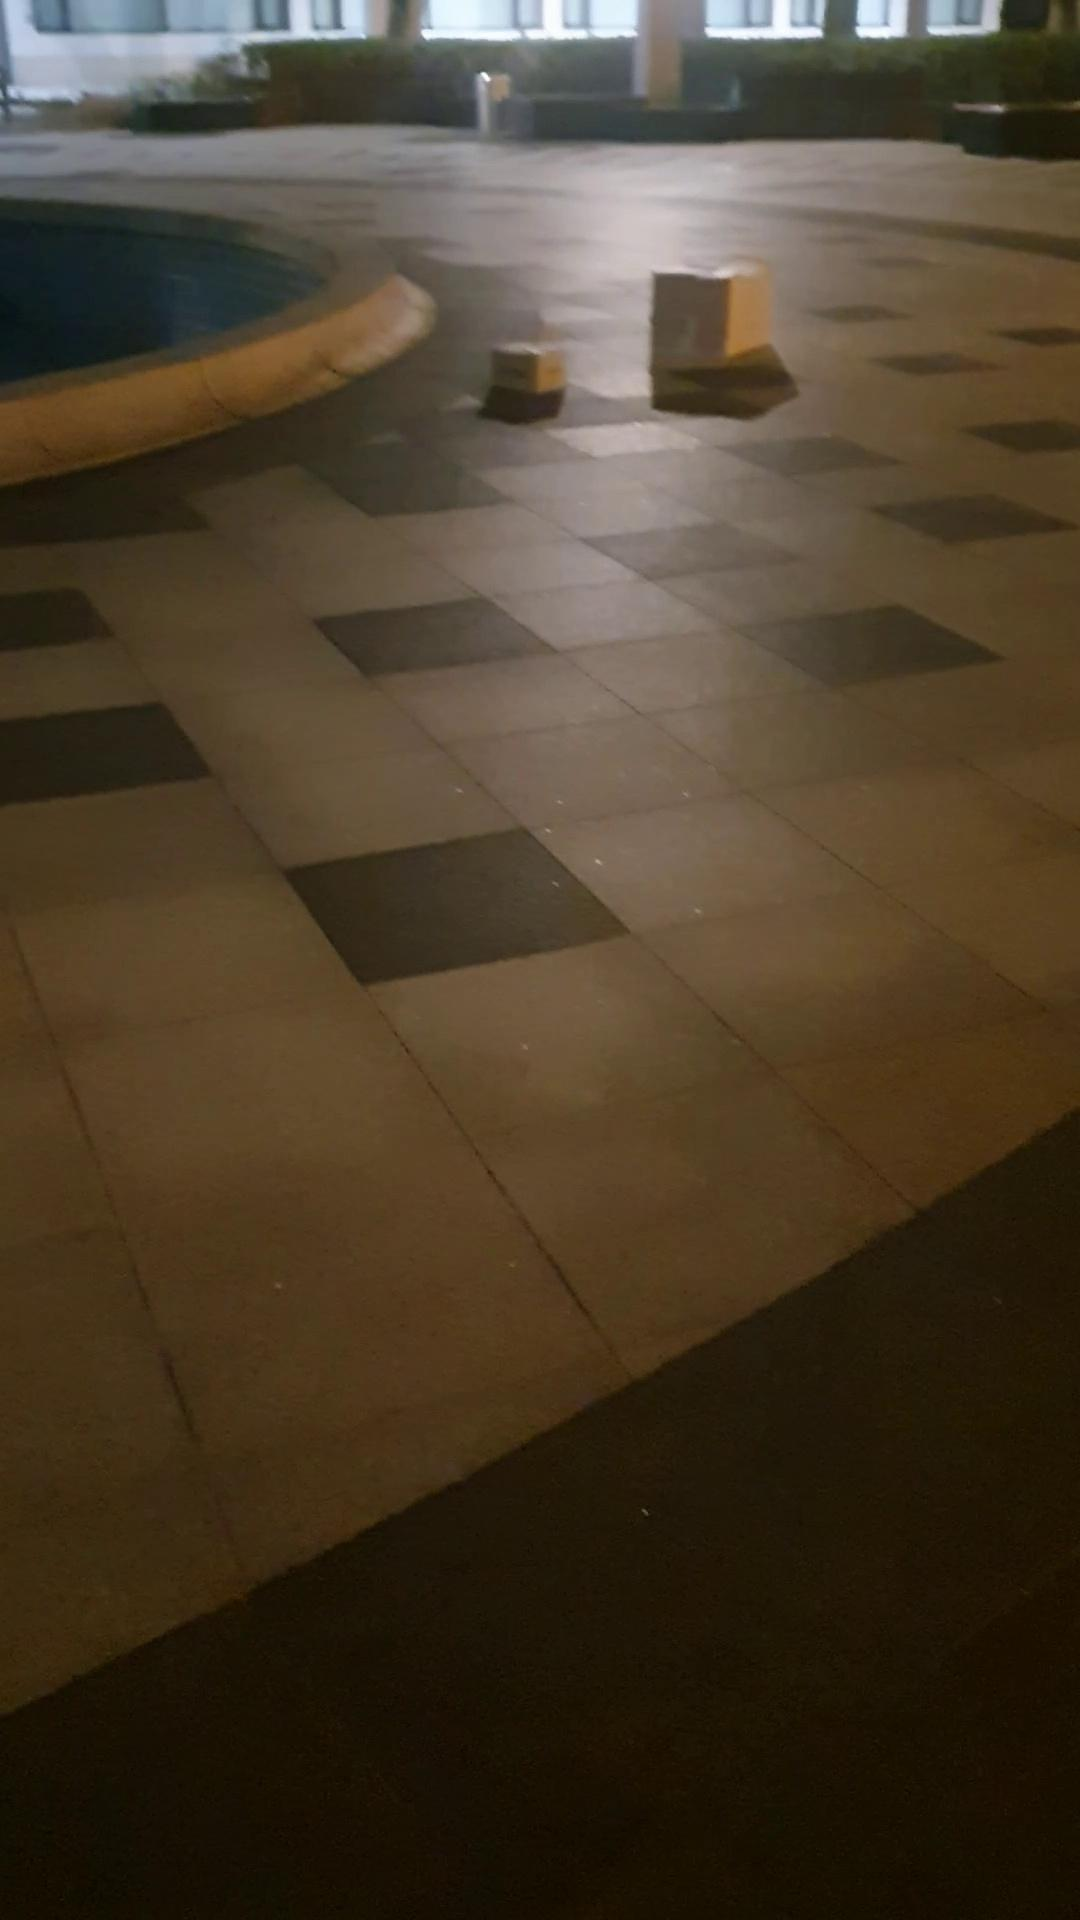Box: (638, 258, 769, 378), (476, 335, 603, 417)
